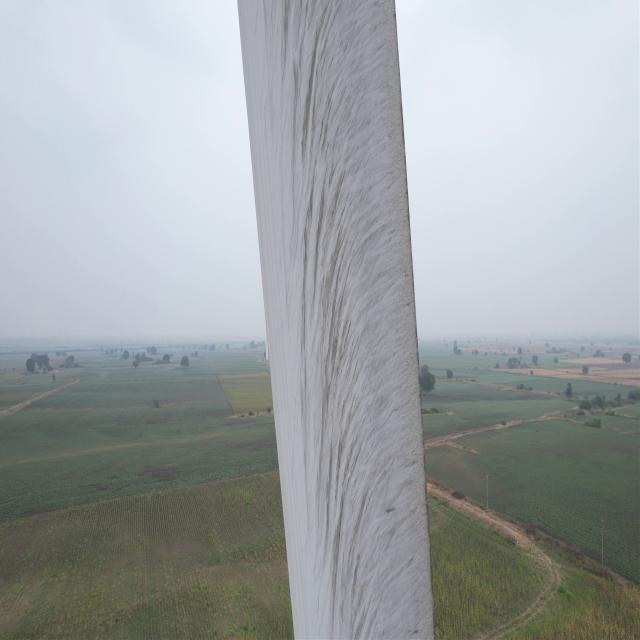Dirt: (255, 0, 440, 640)
